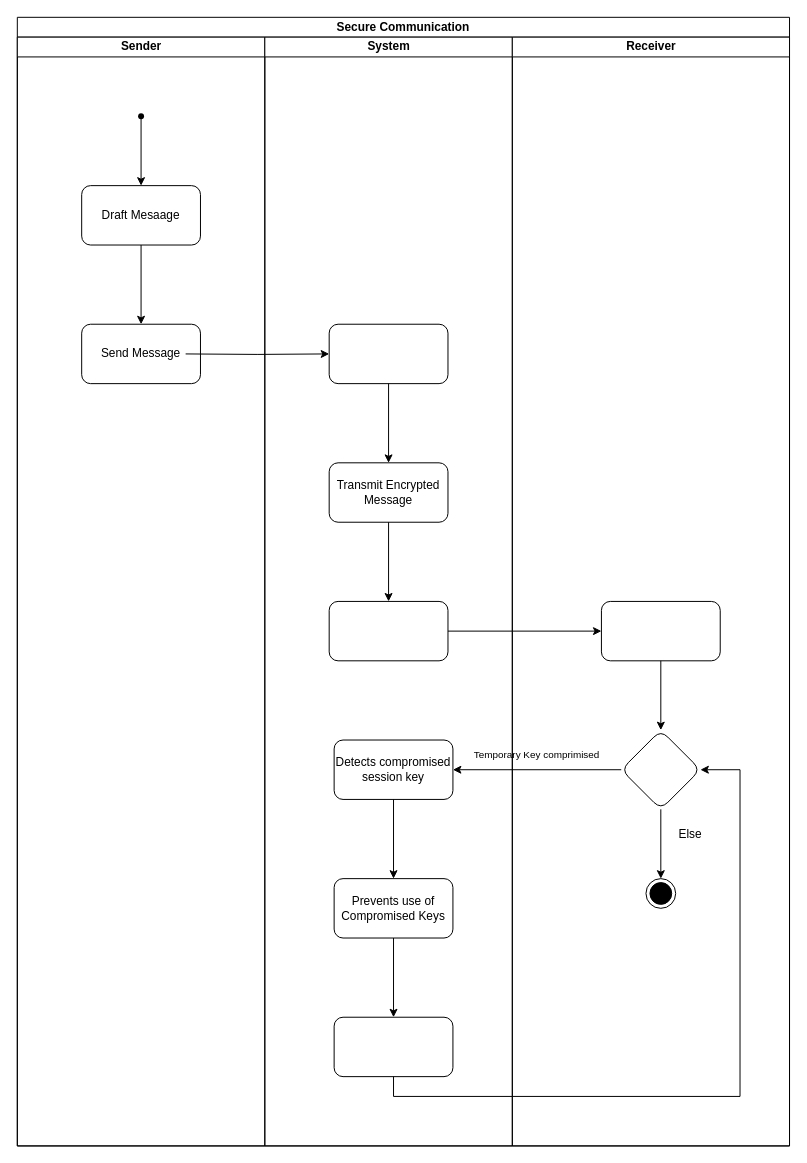
Some shapes in this 807 by 1163 pixel diagram are drawn without their labels. The shapes that lost their labels are listed below. From the top down, each one's centre as x and y in pixels, then its label:
At point 388,353: "Encrypt Message(Signal Protocol)".
At point 388,630: "Decrypt Message on Receiver Side".
At point 660,630: "View Message".
At point 393,1046: "Regenerates new session keys".
